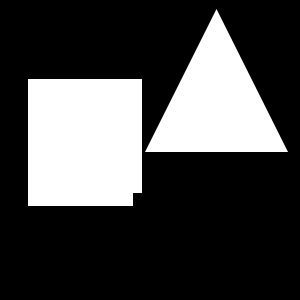circle: (28, 79, 142, 193), (28, 101, 133, 206)
triangle: (145, 9, 288, 152)
